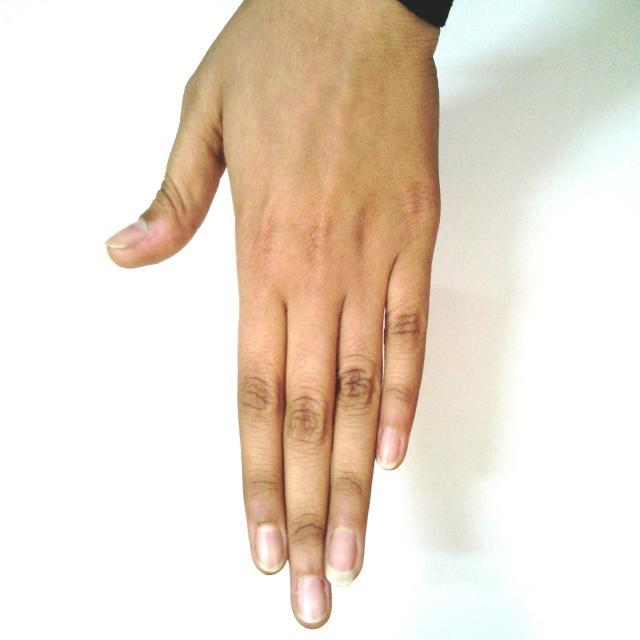Fingernail: (327, 529, 357, 588), (296, 575, 327, 624), (256, 524, 284, 572), (107, 221, 146, 249), (378, 428, 400, 469)
